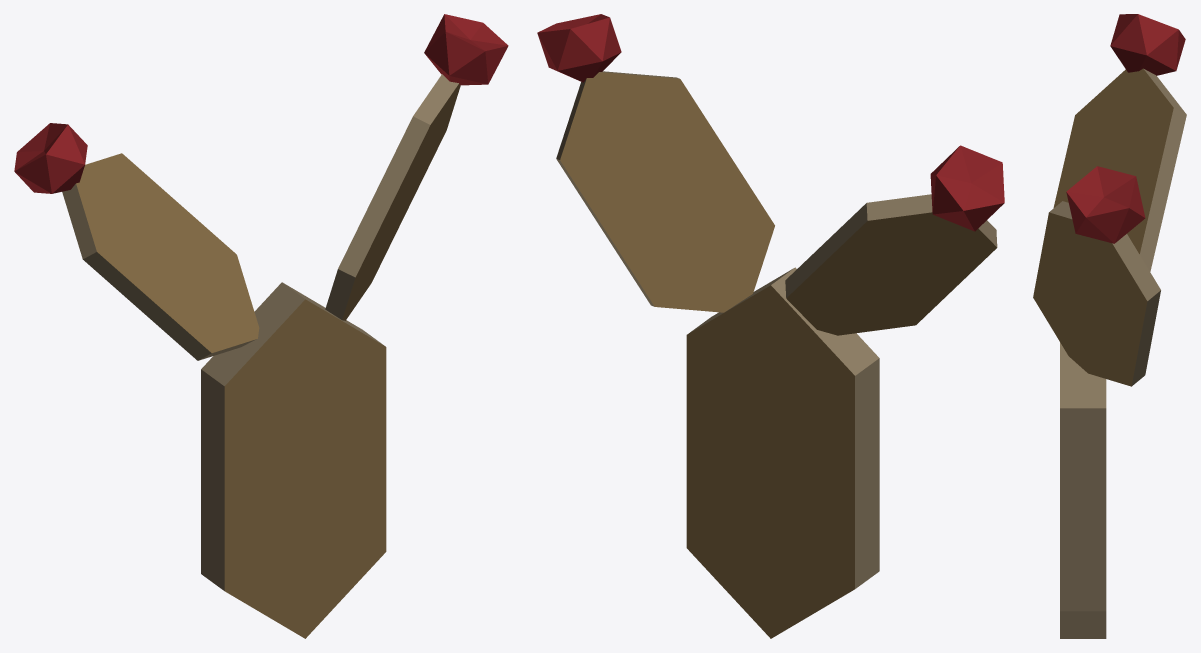
Rendered from TB_D_Env_CactusF_B.FBX.
3 renders of one model, left to right at view 1: azimuth 30°, elevation 25°; view 2: azimuth 150°, elevation 25°; view 3: azimuth 270°, elevation 25°, orthographic. The views are drawn at different scales.
Parts seen in each view (by area): view 1: TB_D_Env_CactusF_B; view 2: TB_D_Env_CactusF_B; view 3: TB_D_Env_CactusF_B.
Boxes of the visible parts, bbox=[...] form: TB_D_Env_CactusF_B: bbox=[14, 14, 508, 638]; TB_D_Env_CactusF_B: bbox=[537, 14, 1004, 638]; TB_D_Env_CactusF_B: bbox=[1033, 14, 1186, 638].
Size of the model in its own units: 0.9513 by 1.09 by 0.2765.
